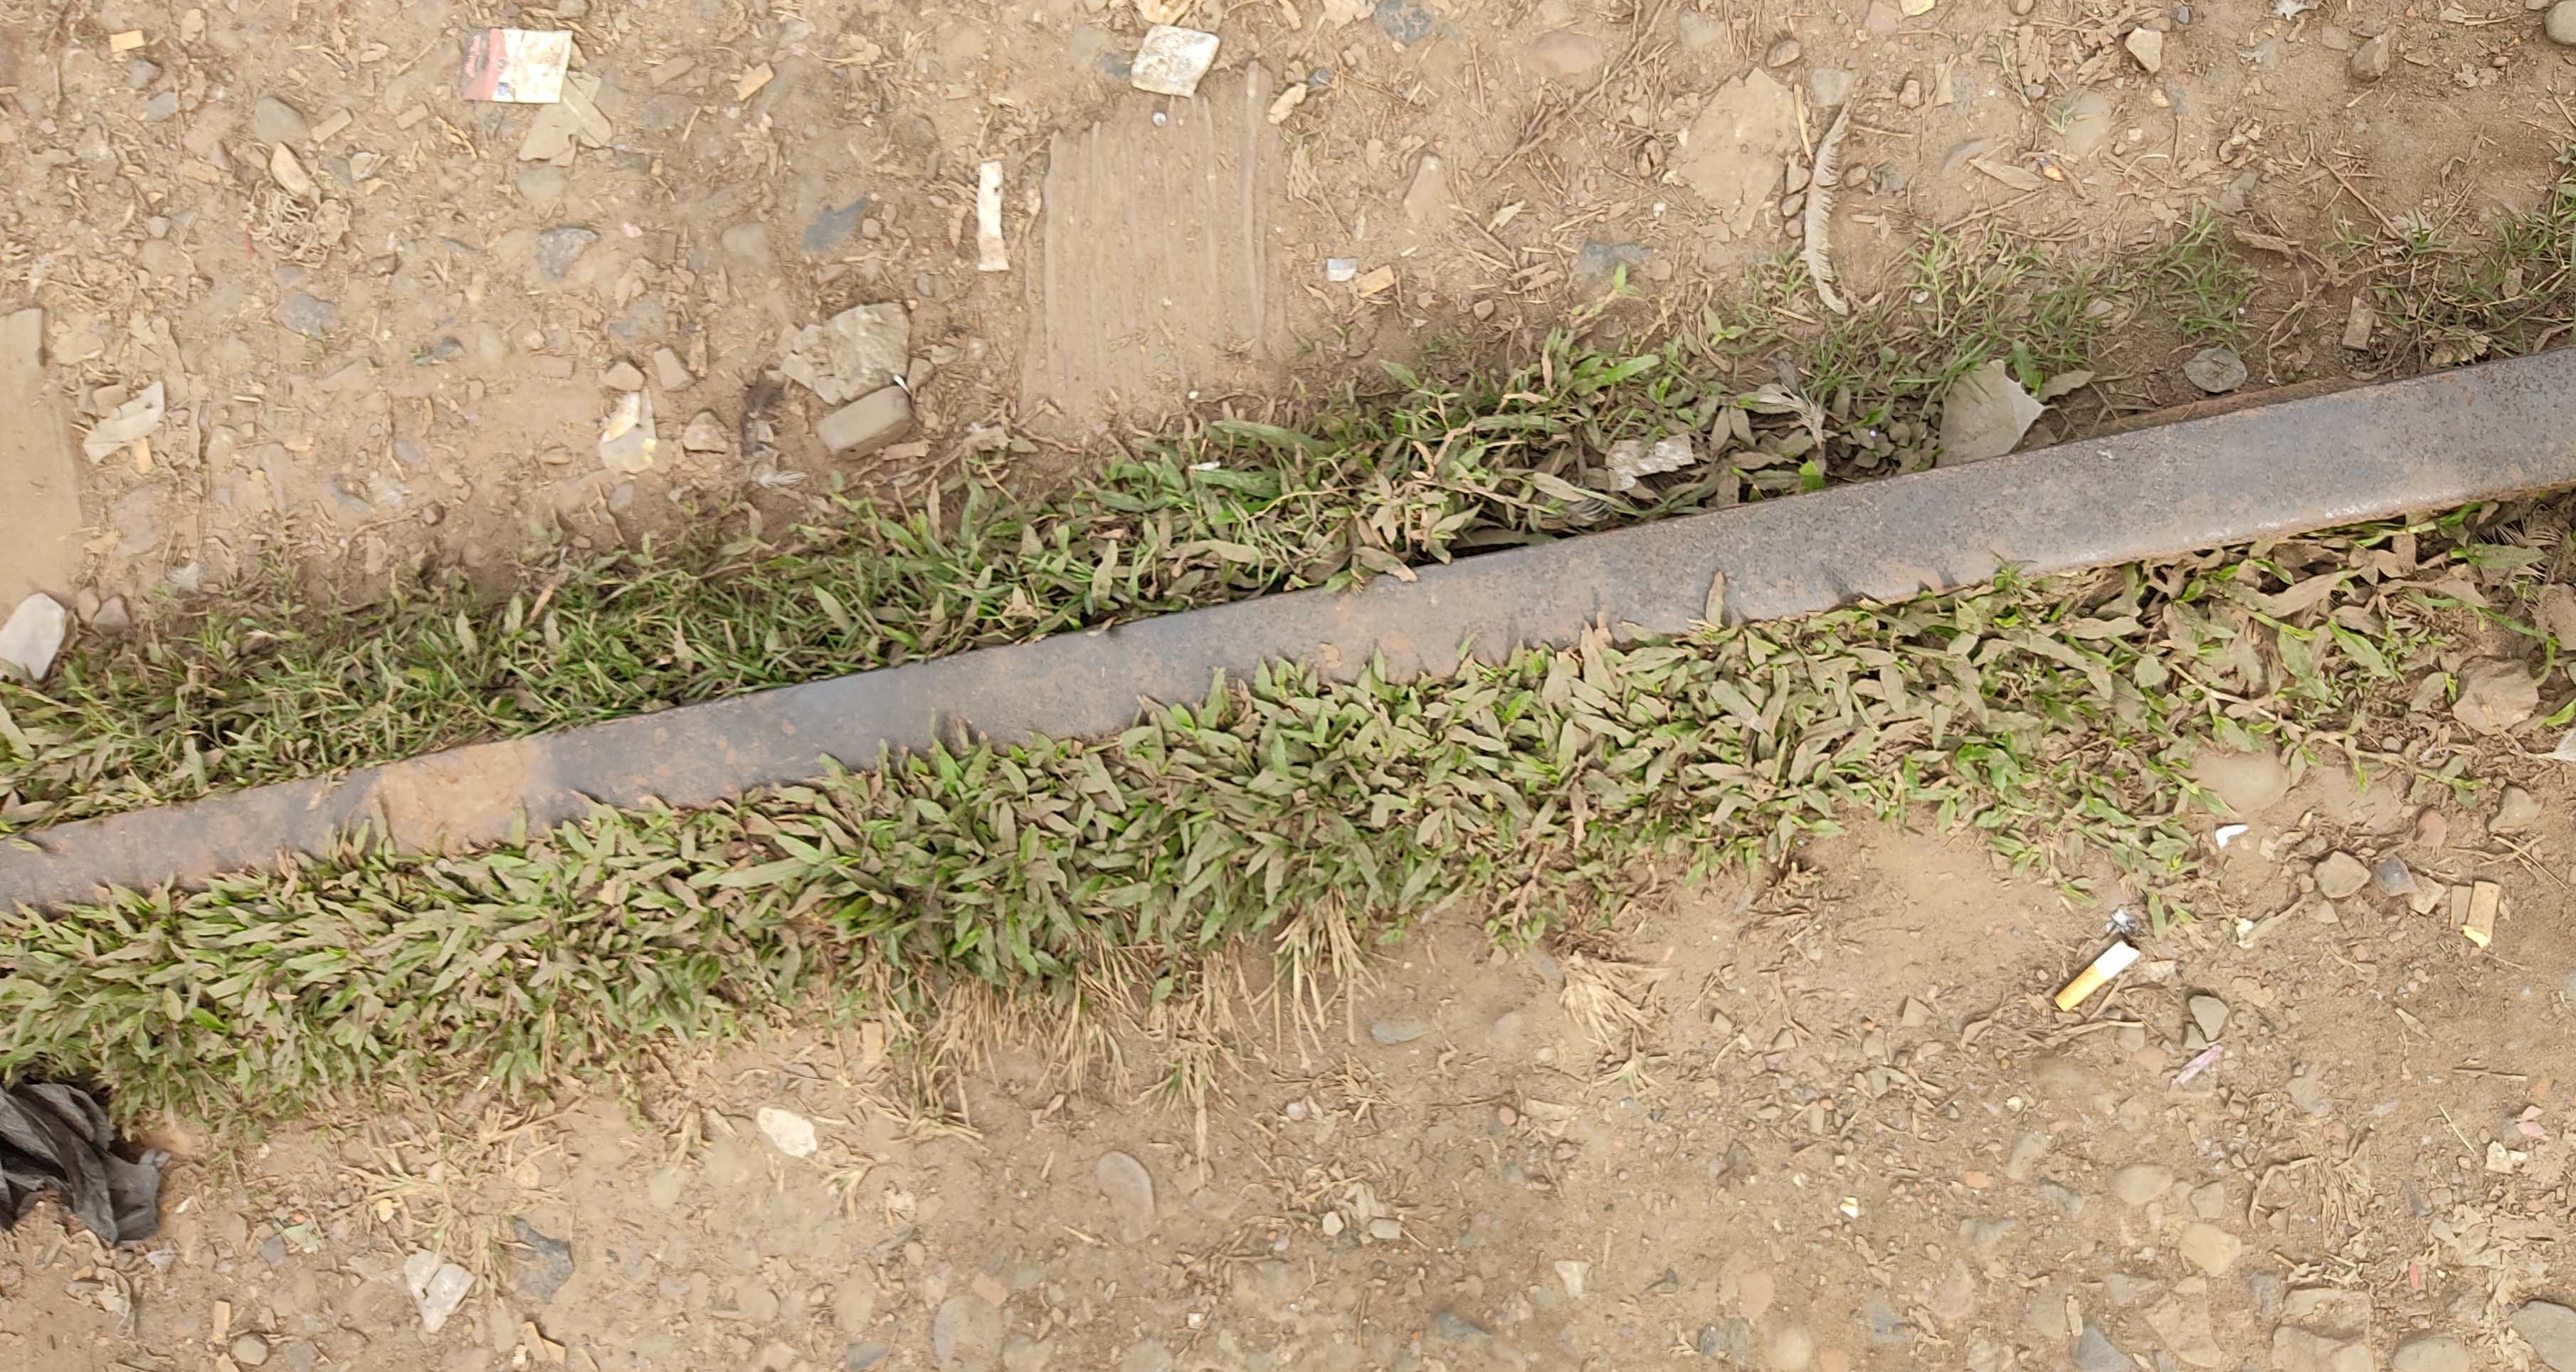error3: (353, 716, 583, 879)
